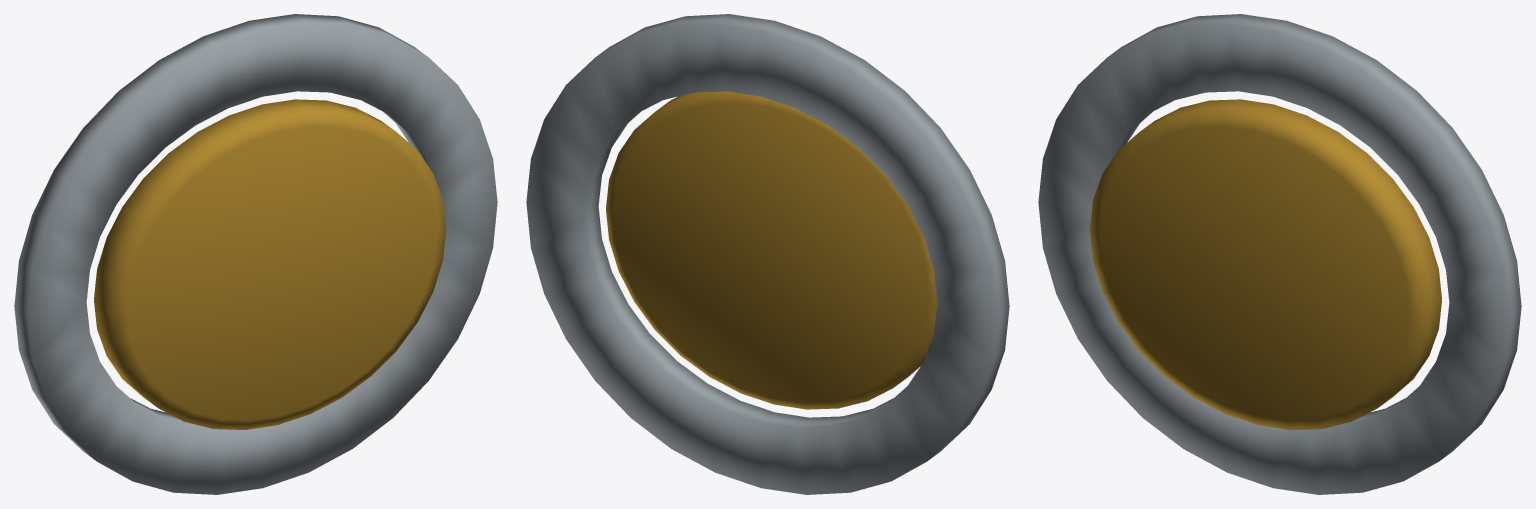
File: ktx-02228-yellow-button-assembly-v2.fbx
The picture shows the model from 3 angles, left to right: view 1: azimuth 30°, elevation 25°; view 2: azimuth 150°, elevation 25°; view 3: azimuth 330°, elevation 25°; orthographic projection.
Visible parts, largest first — view 1: Button_MovingCap, Button_FixedBezel; view 2: Button_FixedBezel, Button_MovingCap; view 3: Button_MovingCap, Button_FixedBezel.
Part boxes in pixels (bbox=[...]): Button_MovingCap: bbox=[94, 99, 445, 429]; Button_FixedBezel: bbox=[14, 14, 497, 494]; Button_FixedBezel: bbox=[526, 14, 1009, 494]; Button_MovingCap: bbox=[606, 91, 937, 409]; Button_MovingCap: bbox=[1090, 99, 1441, 429]; Button_FixedBezel: bbox=[1038, 14, 1521, 494].
Bounding box in the file's own units: 0.029 × 0.027 × 0.0035.
